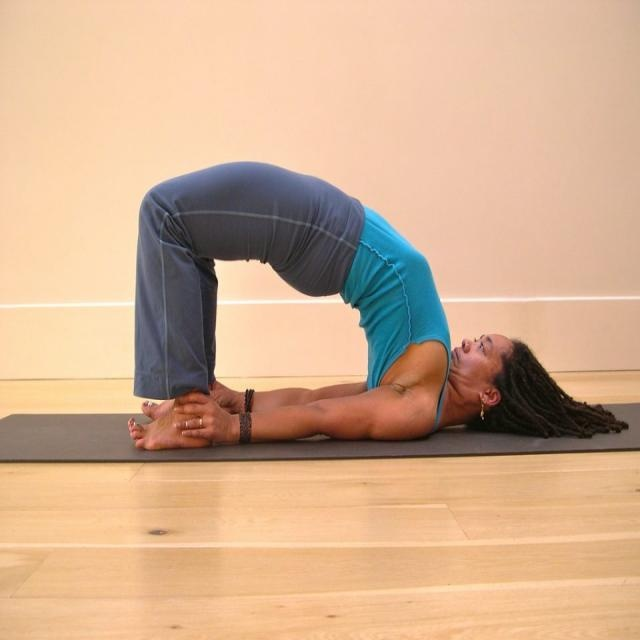Bridge_Pose: (129, 155, 635, 453)
